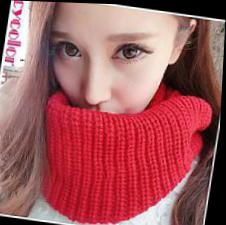WRONG: (41, 15, 172, 141)
